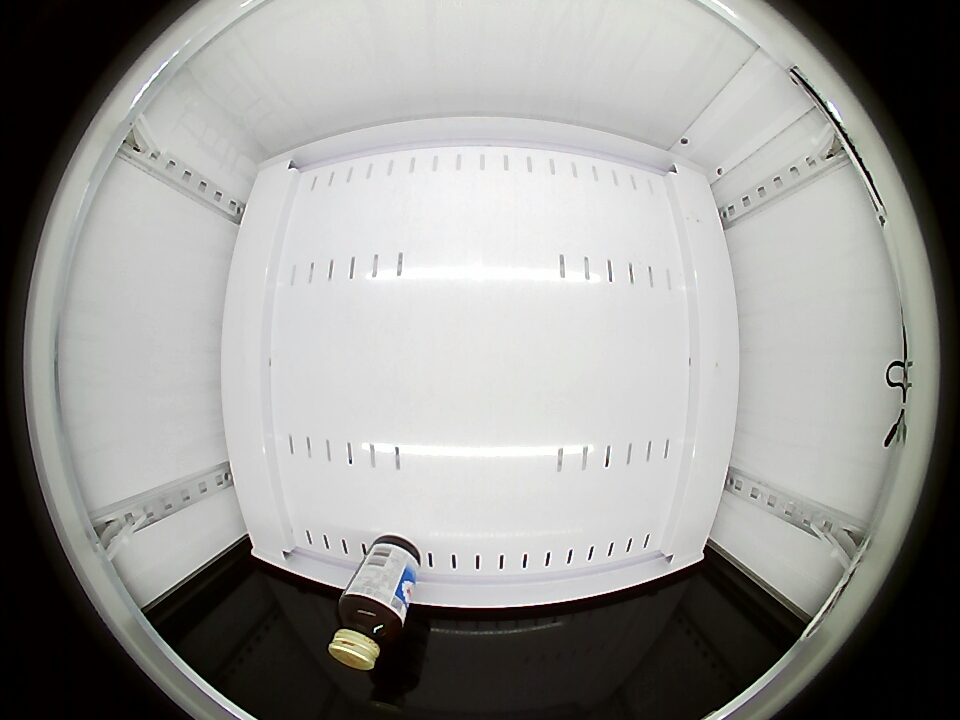libaojian: (329, 592, 406, 670)
